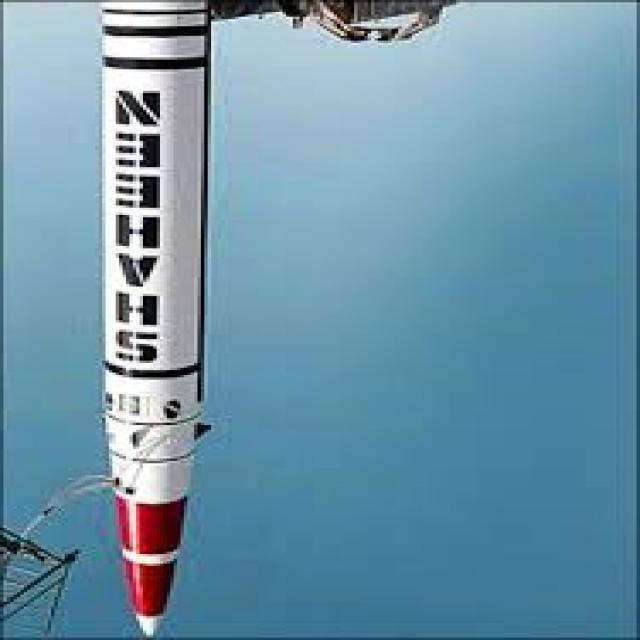missile: (92, 4, 230, 640)
